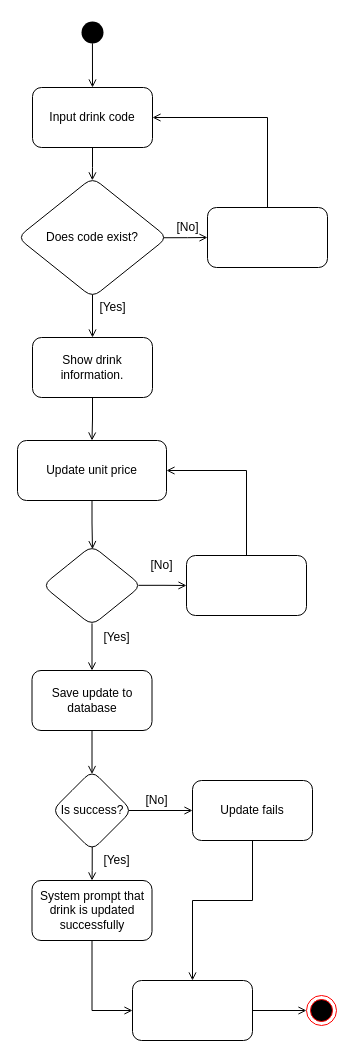
Image size: 354x1058. Some labels were removed from this diagram. Here are the shapes that lost their labels. From the top down, the box of each, then its label:
(206, 206, 328, 268): Drink doesn't exist
(42, 544, 142, 626): Unit price >0 ?
(186, 554, 306, 616): Invalid unit price
(132, 980, 252, 1040): Return the Manager’s Menu.
